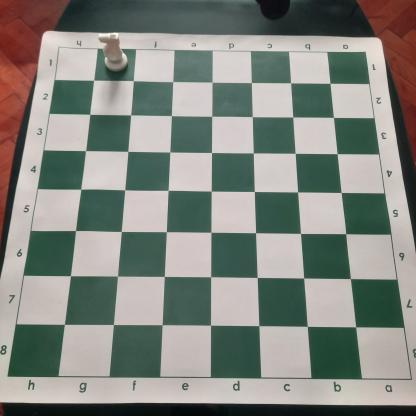white-knight: (97, 31, 131, 73)
